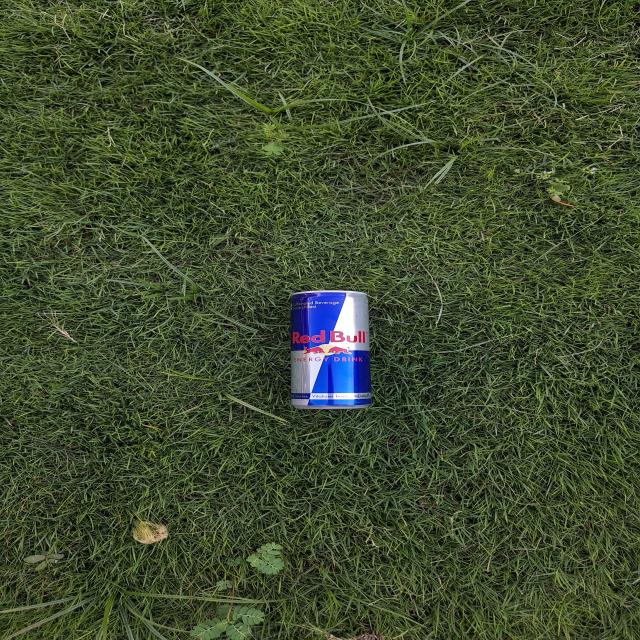Redbul: (286, 294, 371, 408)
